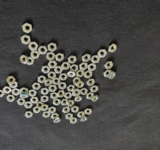nut: (22, 22, 33, 33), (21, 34, 31, 45), (28, 41, 39, 51), (47, 42, 58, 52), (67, 55, 78, 64), (19, 55, 29, 64), (98, 48, 107, 58), (82, 53, 91, 63), (61, 61, 71, 70), (104, 60, 113, 70), (7, 76, 16, 85), (6, 94, 15, 103), (39, 46, 48, 55), (31, 50, 40, 59), (42, 65, 51, 74), (47, 52, 56, 61), (48, 71, 57, 80), (67, 70, 76, 79), (80, 62, 89, 71), (92, 55, 101, 64), (57, 52, 65, 62), (109, 43, 117, 53), (12, 88, 20, 97), (38, 75, 47, 83), (49, 60, 58, 68), (41, 88, 50, 96), (85, 70, 93, 79), (77, 69, 85, 78), (87, 78, 95, 87), (73, 77, 82, 85), (9, 82, 19, 89), (32, 83, 42, 90), (3, 86, 11, 94), (27, 57, 35, 65), (29, 89, 37, 97), (55, 66, 63, 74), (49, 85, 57, 93), (41, 95, 49, 103), (53, 78, 61, 86), (60, 73, 68, 81), (59, 82, 67, 90), (89, 63, 97, 71), (85, 108, 93, 116), (104, 69, 112, 77), (73, 89, 81, 97), (91, 85, 99, 93), (43, 111, 51, 119), (37, 102, 45, 110), (49, 106, 57, 114), (50, 92, 58, 100), (87, 92, 95, 100), (17, 99, 26, 106), (20, 87, 29, 94), (75, 82, 84, 89), (61, 98, 68, 107), (25, 112, 33, 119), (25, 102, 33, 109), (31, 97, 39, 104), (46, 79, 53, 87), (67, 85, 75, 92), (54, 98, 61, 106), (34, 107, 42, 114), (78, 111, 85, 119), (65, 92, 73, 99), (72, 106, 80, 113), (92, 95, 99, 103), (110, 71, 116, 80), (66, 113, 73, 120), (63, 107, 70, 114), (42, 104, 49, 111), (58, 90, 65, 97), (68, 100, 75, 107), (70, 118, 77, 125), (71, 65, 79, 71), (82, 88, 88, 96), (20, 94, 29, 99), (81, 117, 88, 123), (54, 118, 61, 124), (76, 96, 83, 102), (51, 114, 59, 119), (0, 90, 5, 97)
